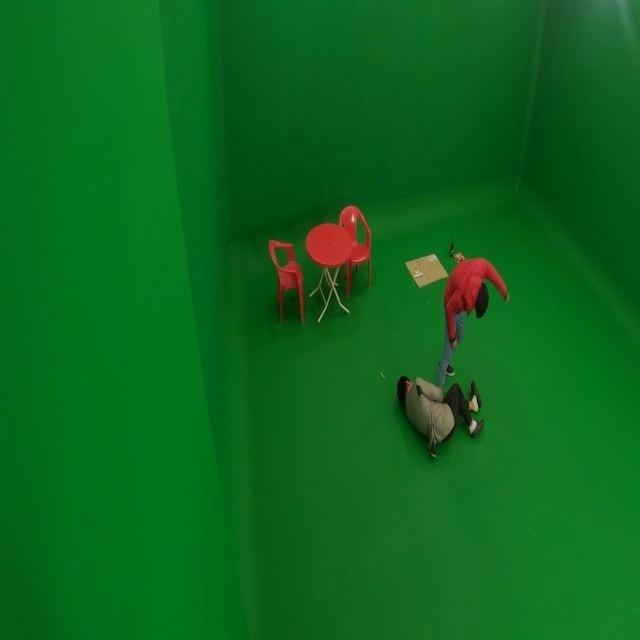fight: (387, 249, 514, 457)
